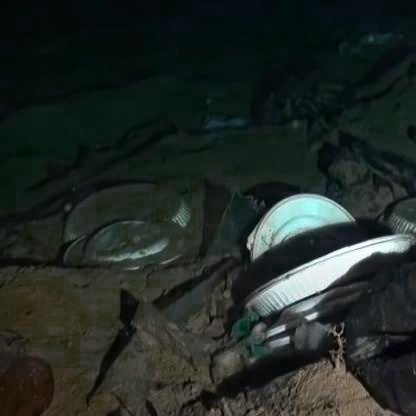plastic: (259, 194, 416, 336), (56, 195, 230, 255)
